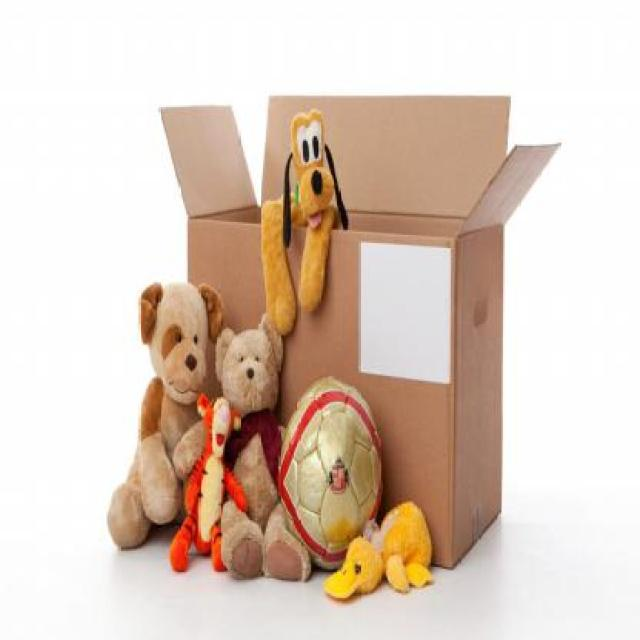box: (134, 22, 569, 586)
